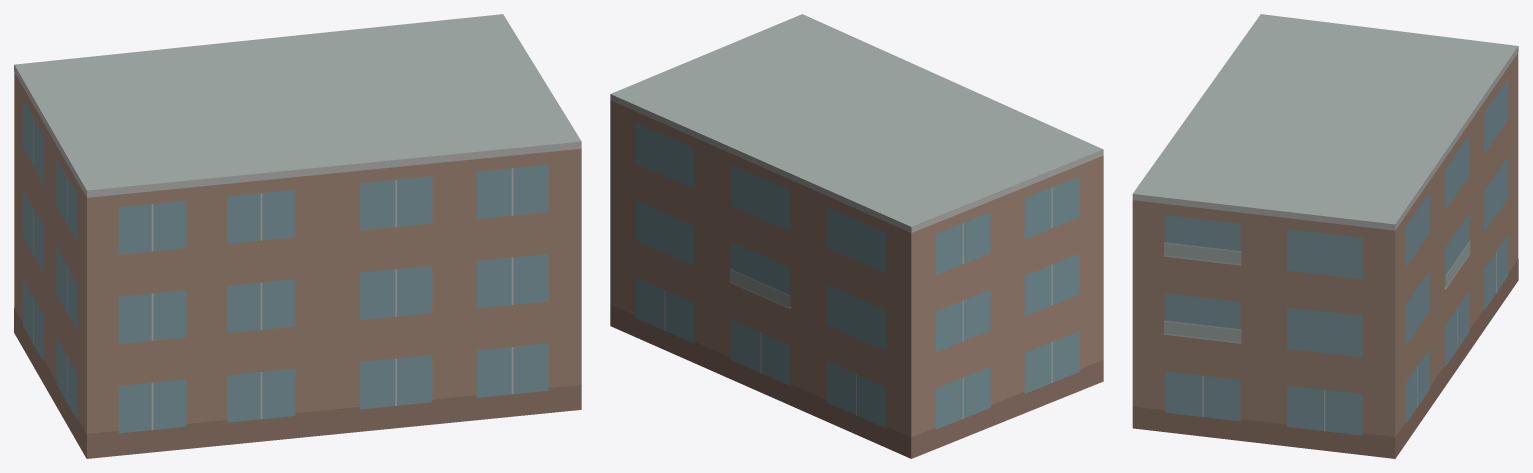
The model's file is survey-upis-32707508.glb.
3 renders of one model, left to right at view 1: azimuth 30°, elevation 25°; view 2: azimuth 150°, elevation 25°; view 3: azimuth 270°, elevation 25°, orthographic. The views are drawn at different scales.
Parts seen in each view (by area): view 1: survey-upis-32707508.tmp; view 2: survey-upis-32707508.tmp; view 3: survey-upis-32707508.tmp.
Boxes of the visible parts, left/top/right/bottom form: survey-upis-32707508.tmp: left=14, top=14, right=581, bottom=458; survey-upis-32707508.tmp: left=610, top=14, right=1103, bottom=458; survey-upis-32707508.tmp: left=1132, top=14, right=1518, bottom=458.
Bounding box in the file's own units: 17.62 × 9.15 × 13.66.
